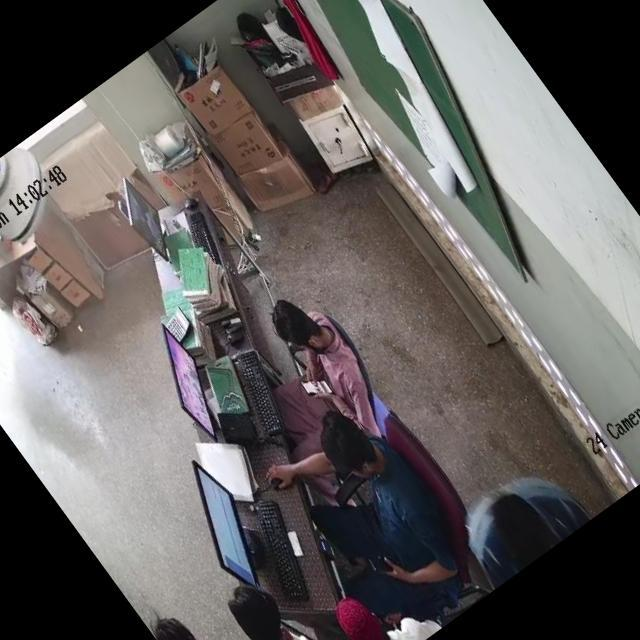person: (286, 398, 461, 594), (239, 282, 385, 438), (445, 442, 589, 584), (207, 553, 369, 640), (320, 557, 439, 640), (142, 583, 296, 640)
